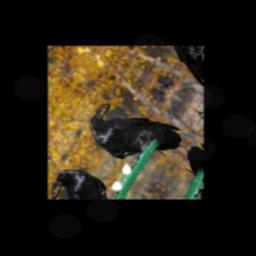Crow: (81, 84, 188, 186)
